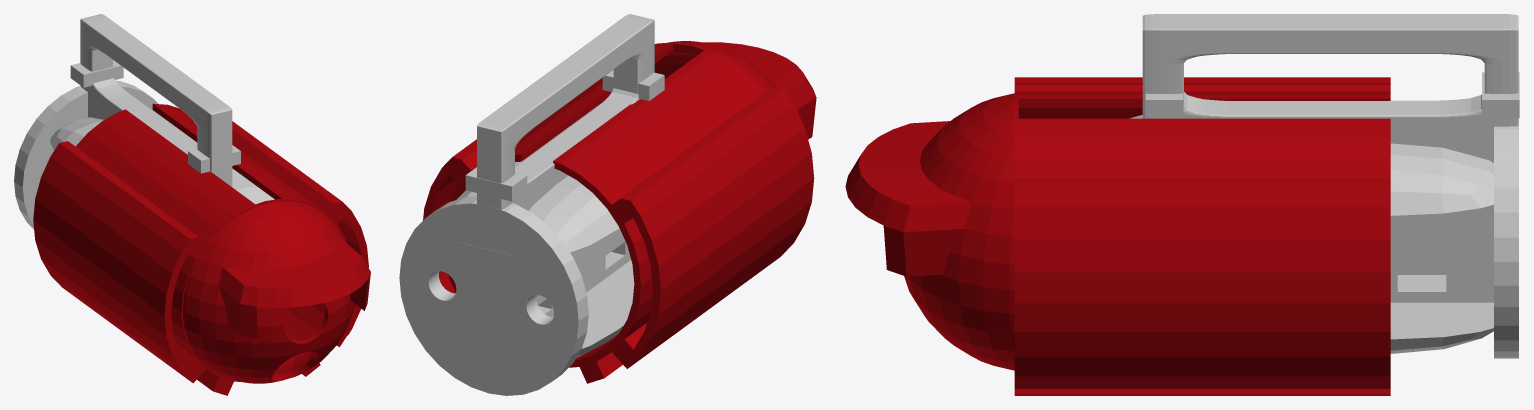
3 views of the same model, side by side, from view 1: azimuth 30°, elevation 25°; view 2: azimuth 150°, elevation 25°; view 3: azimuth 270°, elevation 25° (orthographic). The views are drawn at different scales.
Visible parts, largest first — view 1: Cube; view 2: Cube; view 3: Cube.
Boxes of the visible parts, left/top/right/bottom form: Cube: left=14, top=14, right=370, bottom=395; Cube: left=399, top=14, right=816, bottom=395; Cube: left=845, top=14, right=1519, bottom=395.
Bounding box in the file's own units: 18 × 20.38 × 35.85.
